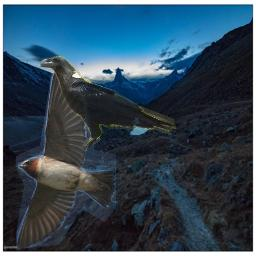Crow: (37, 56, 176, 150)
Swallow: (16, 62, 116, 251)
